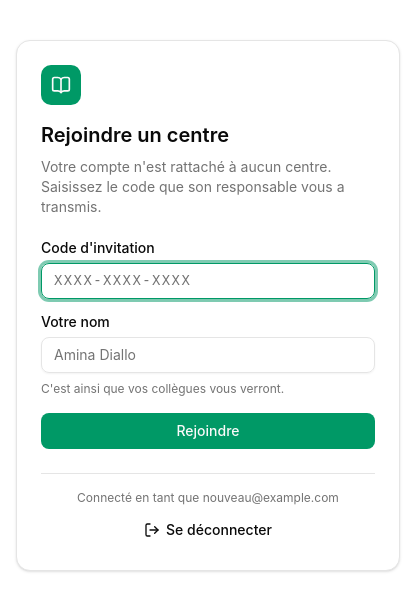
Test: RejoindreCentrePage › refuse un code de la mauvaise longueur sans appeler le serveur
Step 1. Type "ABC" into the field labelled "Code d'invitation" → (208, 280), box [41,262,375,298]
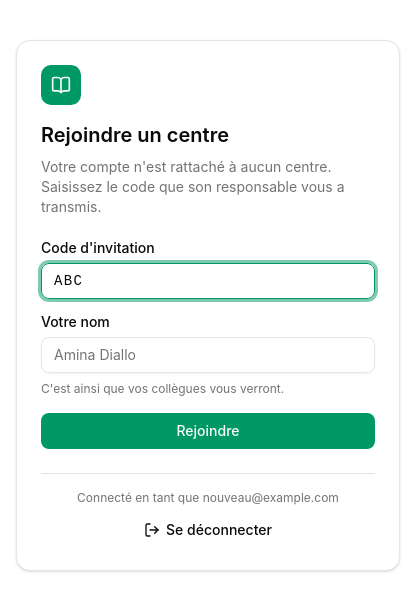
Step 2. Type "Amina" into the field labelled "Votre nom" → (208, 354), box [41,336,375,372]
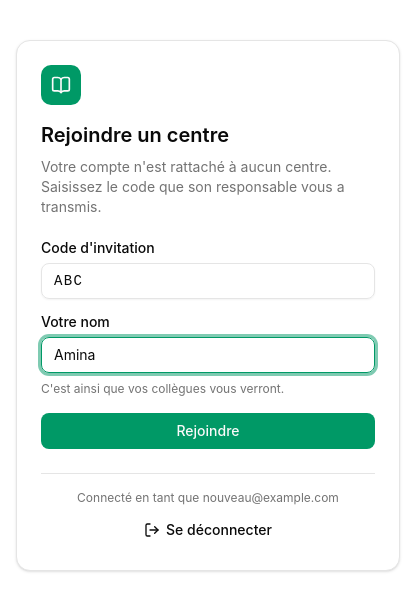
Step 3. Click the button "Rejoindre" → (208, 430), box [41,412,375,448]
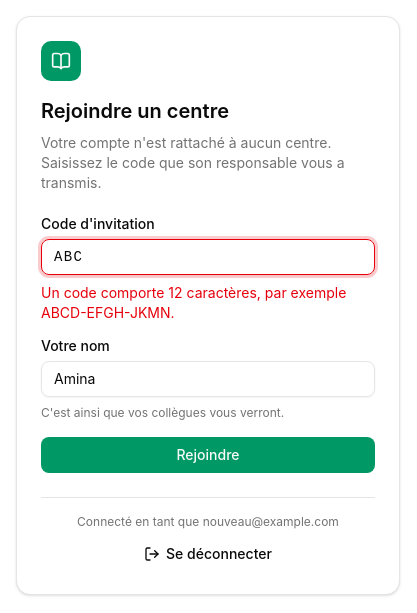
Expected: the text "Un code comporte 12 caractères, par exemple ABCD-EFGH-JKMN." is shown, [41,282,375,322]
